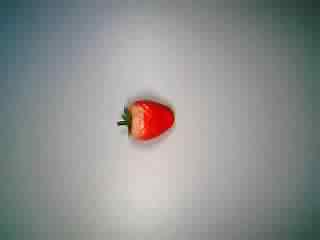strawberry: (115, 87, 181, 149)
